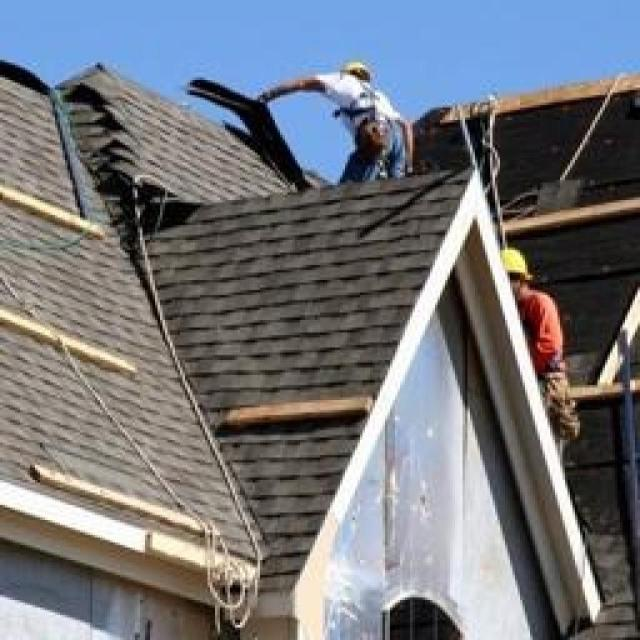Helmet: (495, 286, 580, 414), (327, 85, 422, 152), (478, 234, 548, 306), (328, 40, 390, 88)
